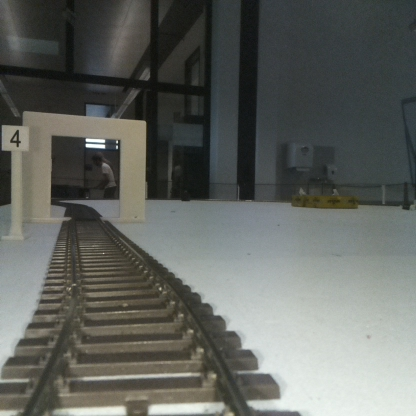white-info-4: (1, 126, 29, 234)
